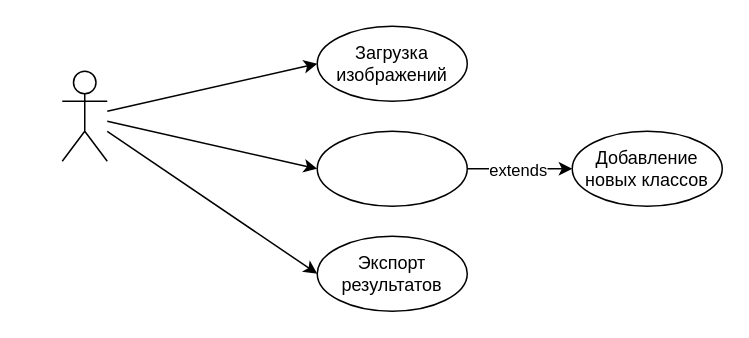
The diagram is 749 pixels wide and 338 high, and some of its shapes have lost their labels. Each missing label, with the centre of its shape:
Обучение системы: pixel 391 168
Пользователь: pixel 84 115
